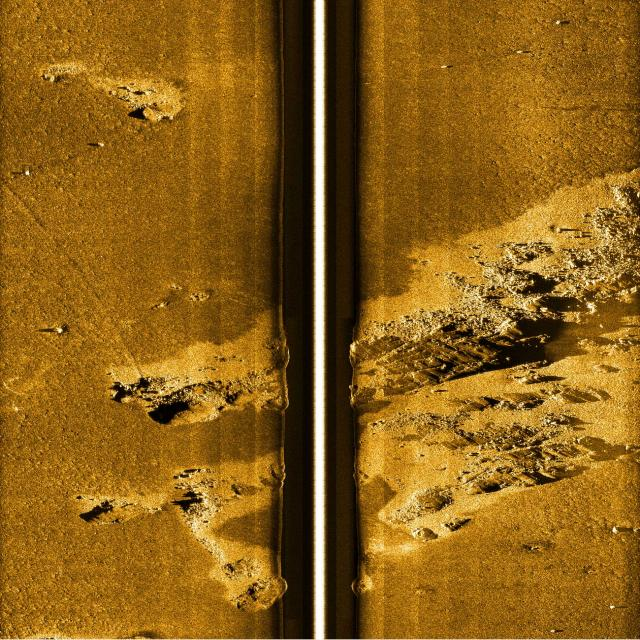other: (353, 235, 614, 538), (92, 324, 286, 434)
